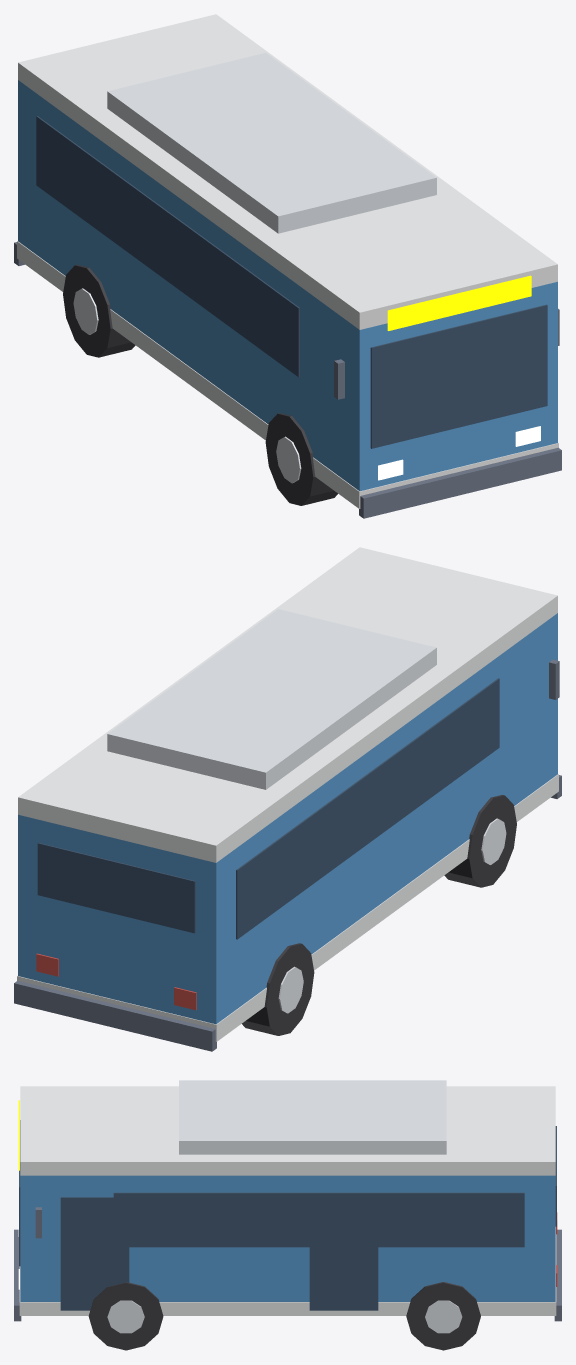
The model's file is bus.glb.
3 renders of one model, top to bottom at view 1: azimuth 30°, elevation 25°; view 2: azimuth 150°, elevation 25°; view 3: azimuth 270°, elevation 25°, orthographic. The views are drawn at different scales.
Visible parts, largest first — view 1: body, wheel-back-right, wheel-front-right; view 2: body, wheel-back-right, wheel-front-right; view 3: body, wheel-back-left, wheel-front-left.
Part boxes in pixels (bbox=[...]): body: bbox=[14, 14, 561, 518]; wheel-back-right: bbox=[63, 264, 135, 357]; wheel-front-right: bbox=[265, 413, 337, 505]; body: bbox=[14, 547, 561, 1051]; wheel-back-right: bbox=[242, 943, 314, 1035]; wheel-front-right: bbox=[444, 795, 516, 887]; body: bbox=[14, 1080, 561, 1321]; wheel-back-left: bbox=[406, 1282, 480, 1350]; wheel-front-left: bbox=[88, 1282, 163, 1350].
Bounding box in the file's own units: 1.61 × 1.78 × 4.4.
